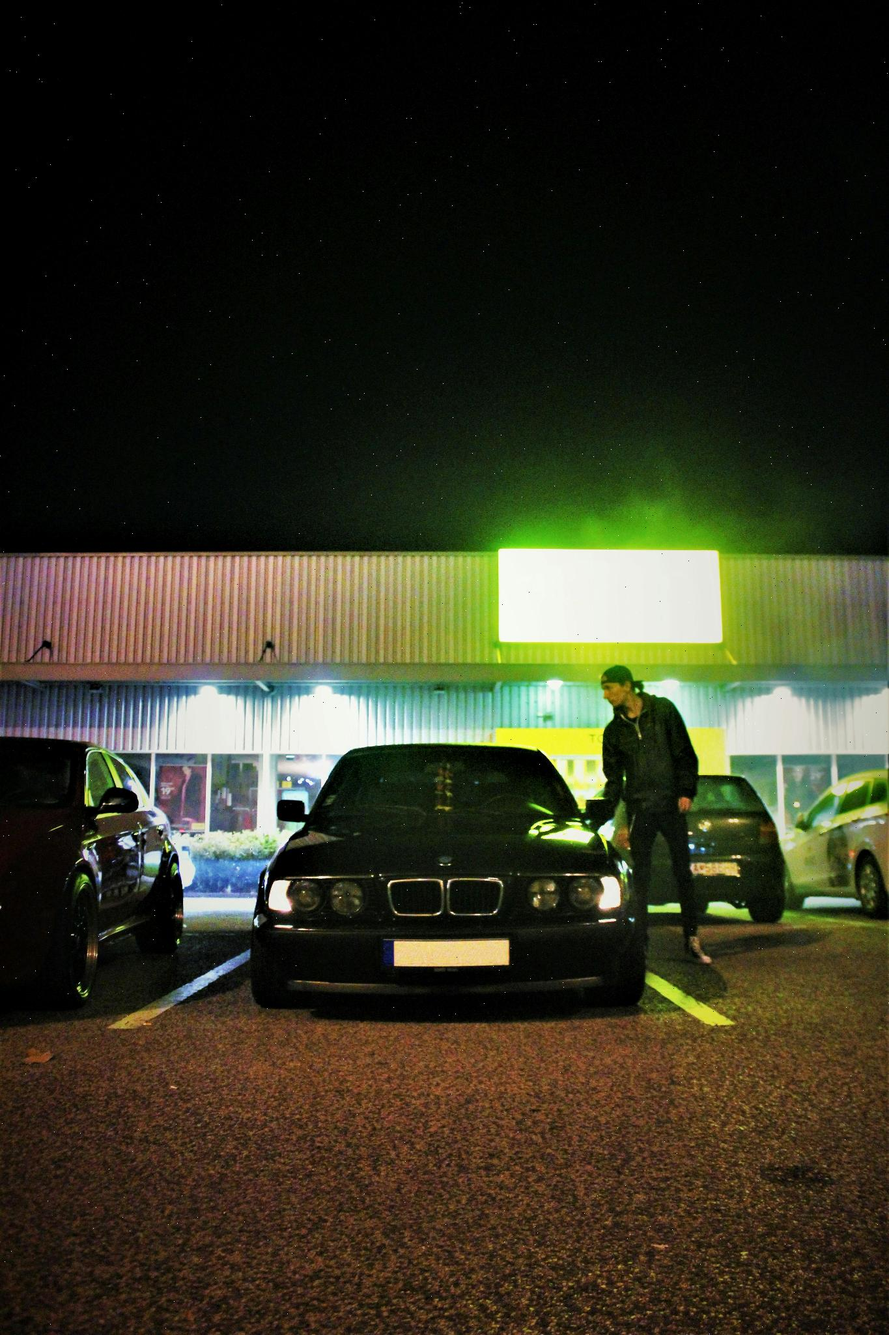car: (262, 750, 643, 1007), (3, 734, 196, 1011), (782, 769, 889, 917), (687, 775, 785, 922), (650, 835, 675, 904), (602, 801, 629, 852)
pedestrian: (600, 658, 715, 852)
